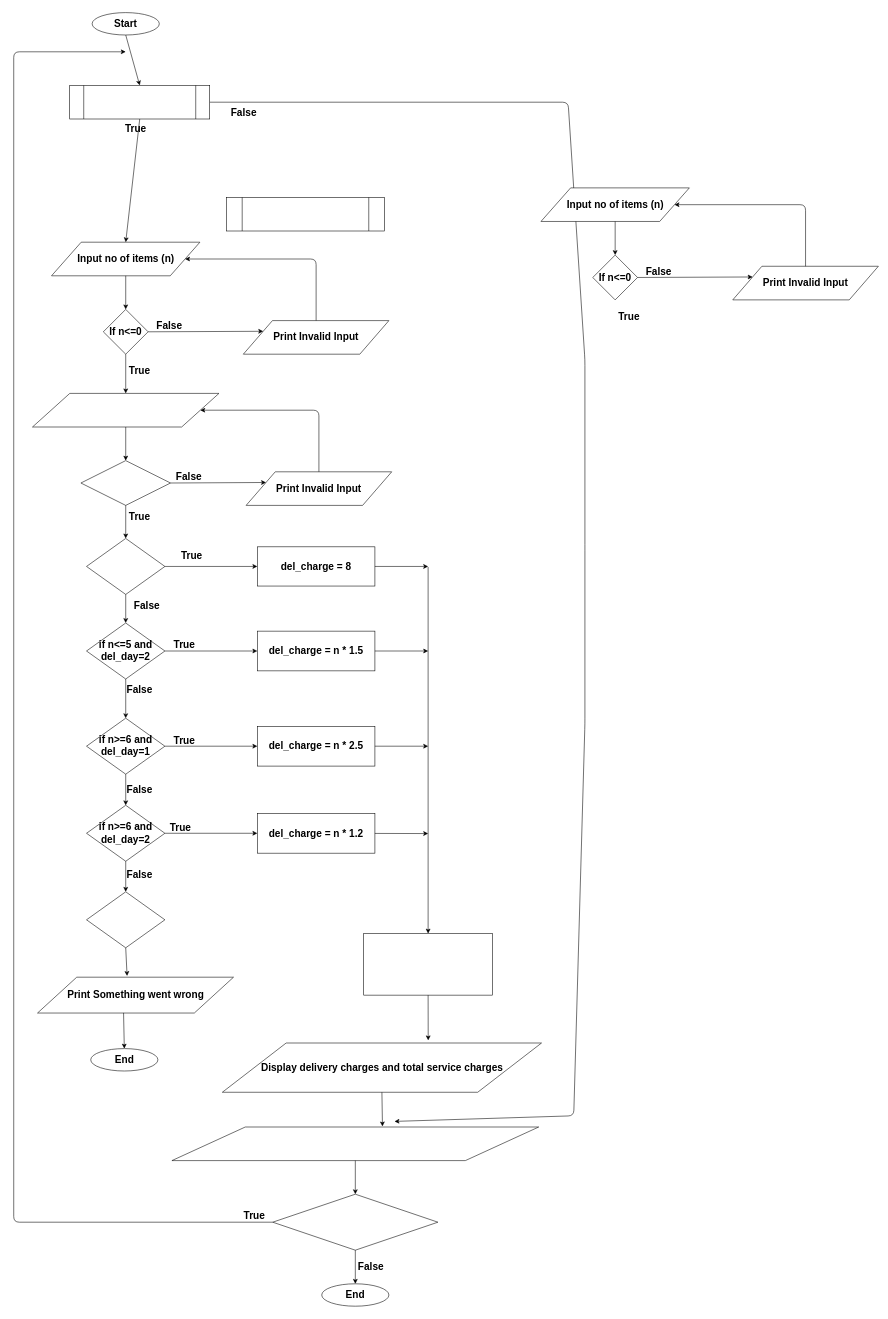
Some shapes in this 888 by 1319 pixel diagram are drawn without their labels. Here are the shapes that lost their labels. From the top down, the centre of each, then its label:
At point 139,102: "checkPurchaseTotal".
At point 305,214: "getValidatedNoOfItems".
At point 125,410: "Input delivery day(del_day)".
At point 125,482: "If del is 1 or 2".
At point 125,566: "if n<=5 and del_day=1".
At point 125,919: "else".
At point 428,964: "Calculate total charges = del_charge + purchase total".
At point 355,1143: "Input Asking the user to calculate another purchase(y/n)".
At point 355,1222: "If another purchase = y or Y".
